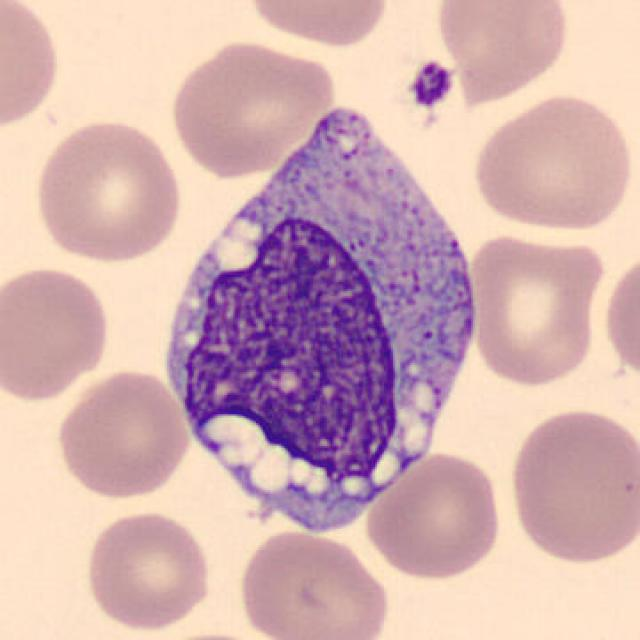Monocyte: (150, 86, 486, 545)
Platelets: (405, 58, 455, 111)
RBC: (165, 35, 338, 180), (466, 88, 636, 235), (30, 114, 187, 264), (464, 229, 608, 390), (505, 403, 638, 568), (361, 448, 507, 582), (52, 366, 192, 501), (235, 527, 393, 640), (80, 508, 215, 633), (0, 261, 114, 405), (430, 0, 574, 106), (0, 0, 64, 136), (242, 0, 393, 49), (601, 245, 640, 390)
